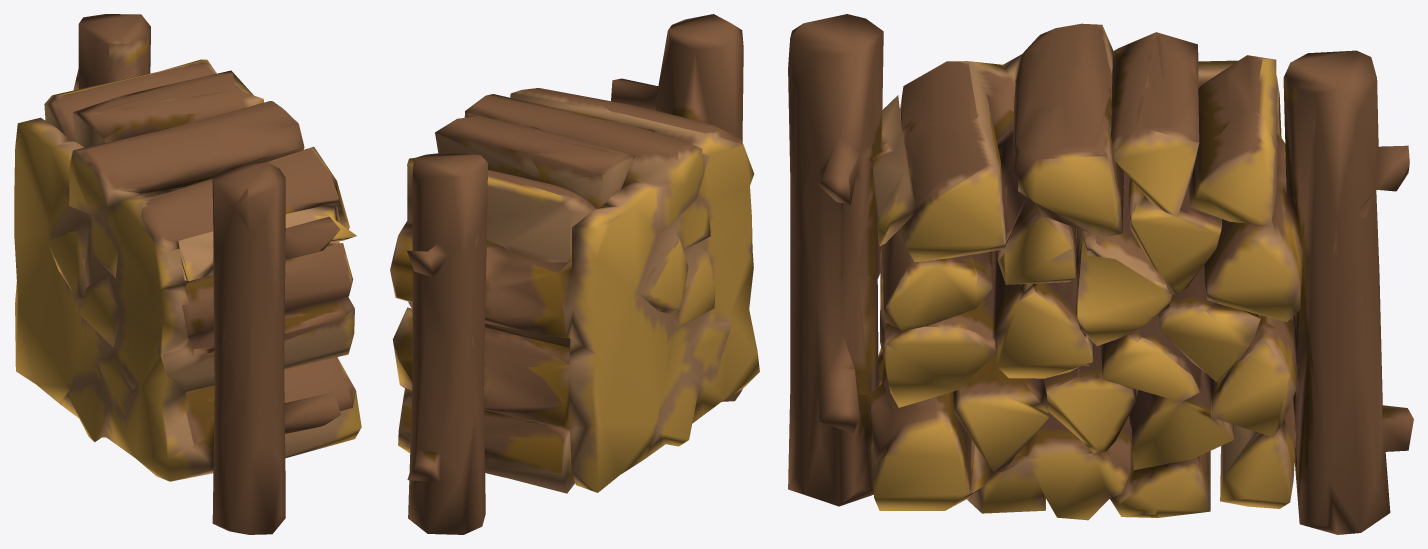
File: f-woodpile.glb
3 renders of one model, left to right at view 1: azimuth 30°, elevation 25°; view 2: azimuth 150°, elevation 25°; view 3: azimuth 270°, elevation 25°, orthographic. The views are drawn at different scales.
Parts seen in each view (by area): view 1: tripo_node_8216332c-1b83-4c5f-9e0b-f1992b940eb6; view 2: tripo_node_8216332c-1b83-4c5f-9e0b-f1992b940eb6; view 3: tripo_node_8216332c-1b83-4c5f-9e0b-f1992b940eb6.
Part boxes in pixels (x1,y1,x2,y2): tripo_node_8216332c-1b83-4c5f-9e0b-f1992b940eb6: (14, 14, 361, 534); tripo_node_8216332c-1b83-4c5f-9e0b-f1992b940eb6: (390, 14, 759, 534); tripo_node_8216332c-1b83-4c5f-9e0b-f1992b940eb6: (788, 14, 1413, 534).
Size of the model in its own units: 0.4916 by 0.803 by 1.
Materials: 1 (1 with a texture image).
